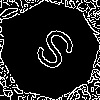S: (25, 25, 79, 81)
